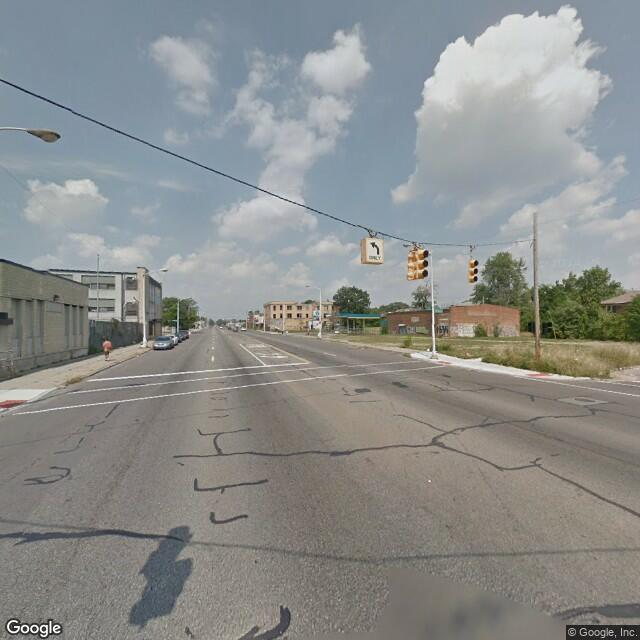litter: (421, 348, 434, 352), (614, 367, 629, 370)
